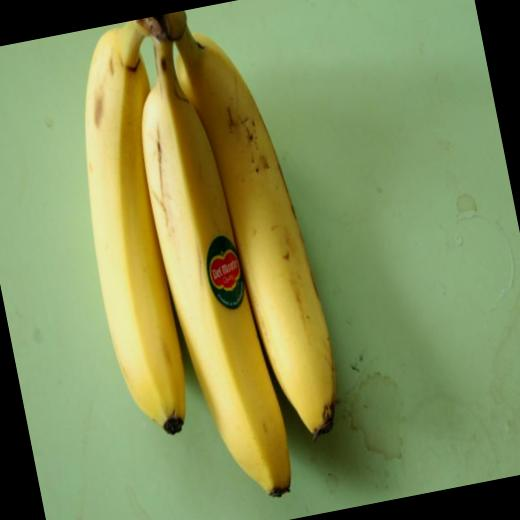Banana: (115, 19, 301, 516), (169, 20, 348, 450), (50, 18, 217, 442)
